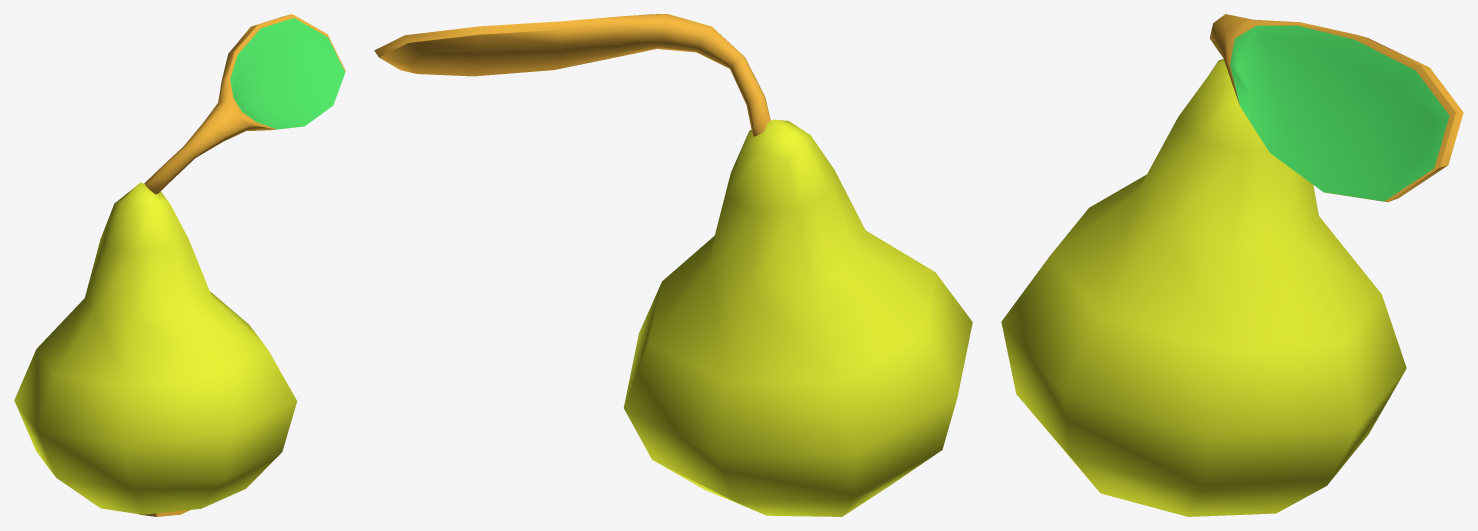
The model's file is alien_pear.fbx.
3 views of the same model, side by side, from view 1: azimuth 30°, elevation 25°; view 2: azimuth 150°, elevation 25°; view 3: azimuth 270°, elevation 25° (orthographic). The views are drawn at different scales.
Visible parts, largest first — view 1: alien_pear; view 2: alien_pear; view 3: alien_pear.
Part boxes in pixels (bbox=[...]): alien_pear: bbox=[14, 14, 345, 516]; alien_pear: bbox=[374, 14, 972, 516]; alien_pear: bbox=[1001, 14, 1463, 516].
Bounding box in the file's own units: 20.25 × 19.67 × 14.86.
